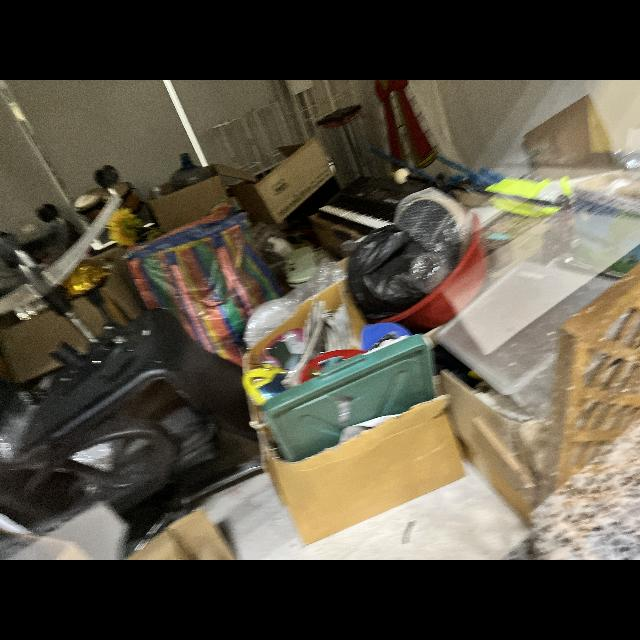cardboard_box: (259, 394, 466, 546), (228, 136, 338, 228), (146, 152, 254, 232), (128, 504, 238, 560)
